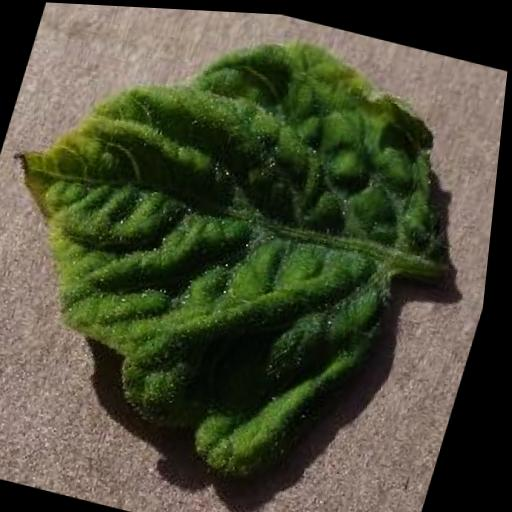Yellow Leaf Curl Virus: (0, 0, 496, 509)
